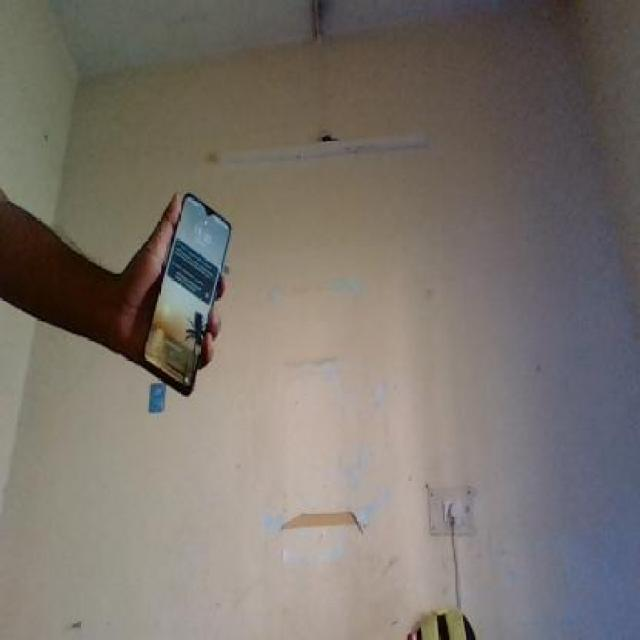Phone: (136, 188, 232, 399)
